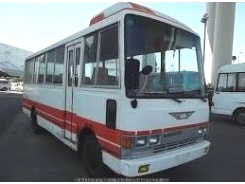bus: (20, 1, 211, 176)
